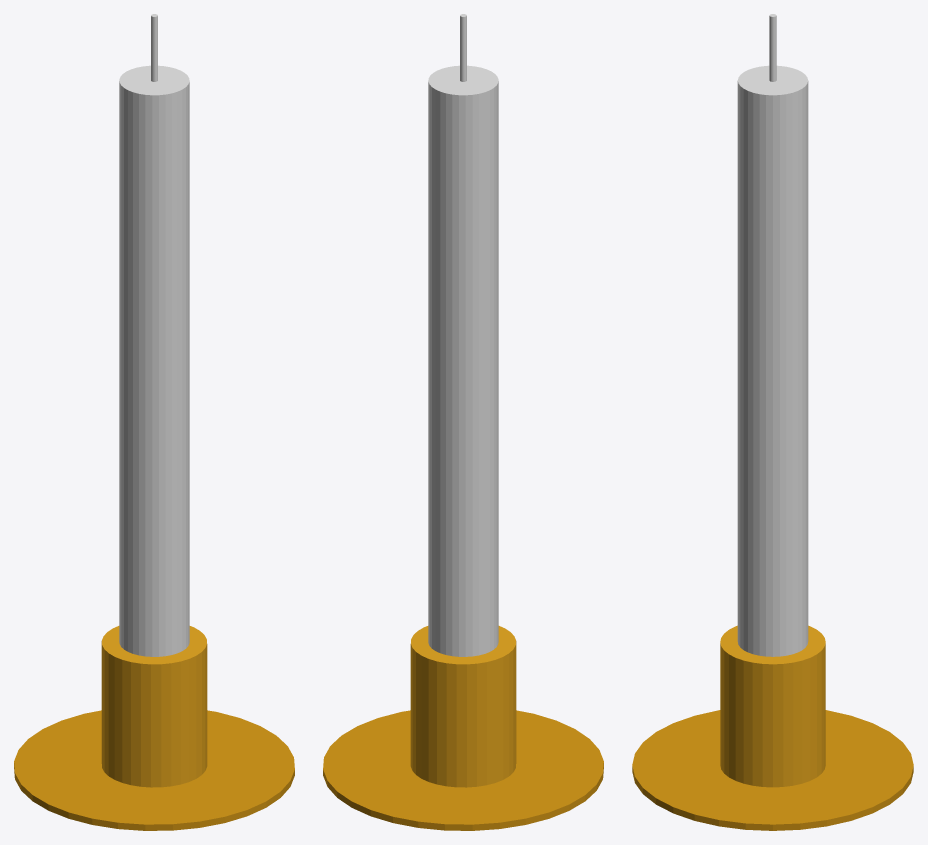
Rendered from bougie2.fbx.
3 views of the same model, side by side, from view 1: azimuth 30°, elevation 25°; view 2: azimuth 150°, elevation 25°; view 3: azimuth 270°, elevation 25° (orthographic).
Visible parts, largest first — view 1: Cylindre, Cylindre.003, Cylindre.002; view 2: Cylindre, Cylindre.003, Cylindre.002; view 3: Cylindre, Cylindre.003, Cylindre.002, Cylindre.001.
Part boxes in pixels (bbox=[...]): Cylindre: bbox=[119, 65, 189, 656]; Cylindre.003: bbox=[14, 710, 294, 830]; Cylindre.002: bbox=[101, 626, 207, 787]; Cylindre: bbox=[428, 65, 498, 656]; Cylindre.003: bbox=[323, 710, 603, 830]; Cylindre.002: bbox=[410, 626, 516, 787]; Cylindre: bbox=[737, 65, 808, 656]; Cylindre.003: bbox=[632, 710, 913, 830]; Cylindre.002: bbox=[720, 625, 825, 787]; Cylindre.001: bbox=[769, 14, 776, 81].
Size of the model in its own units: 80 by 237 by 80.
